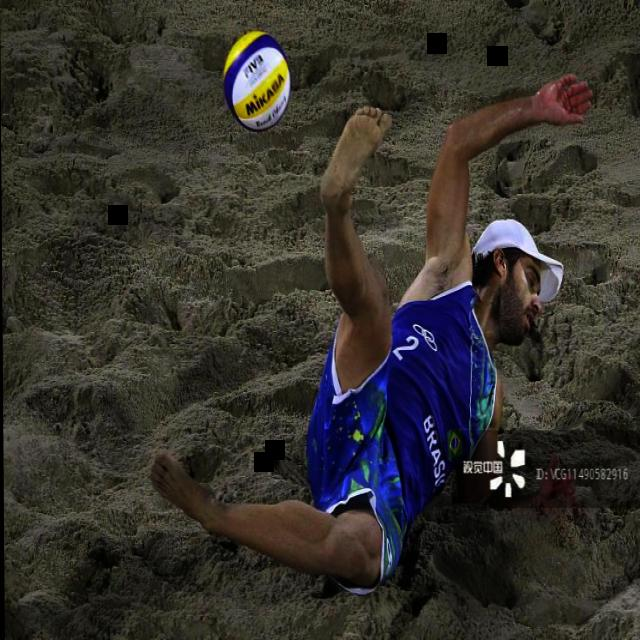Fall-Detected: (132, 69, 581, 582)
